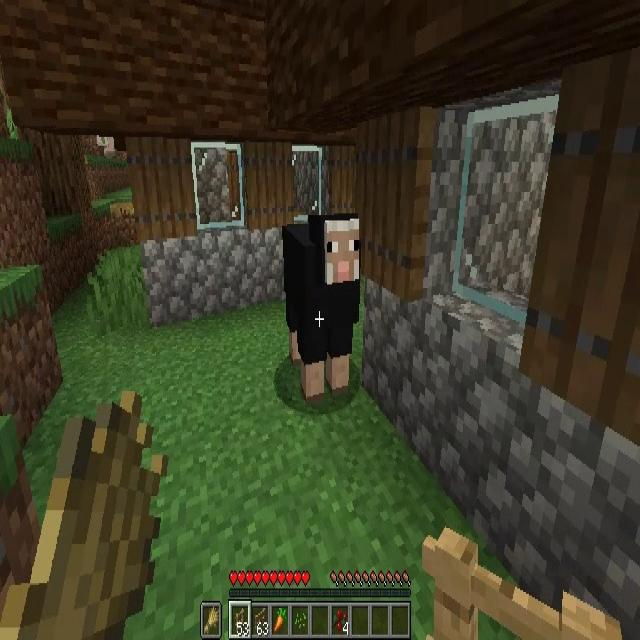sheep: (281, 214, 360, 401)
